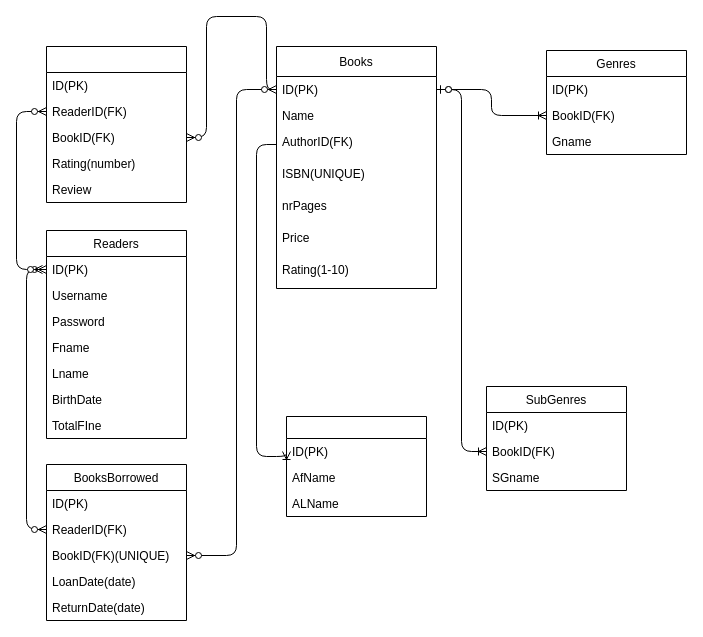
The diagram is 703 pixels wide and 637 high, and some of its shapes have lost their labels. Here are the shapes that lost their labels. From the top down, the box of each, then its label:
(46, 46, 186, 202): ReadBooks
(286, 416, 426, 516): Authors
